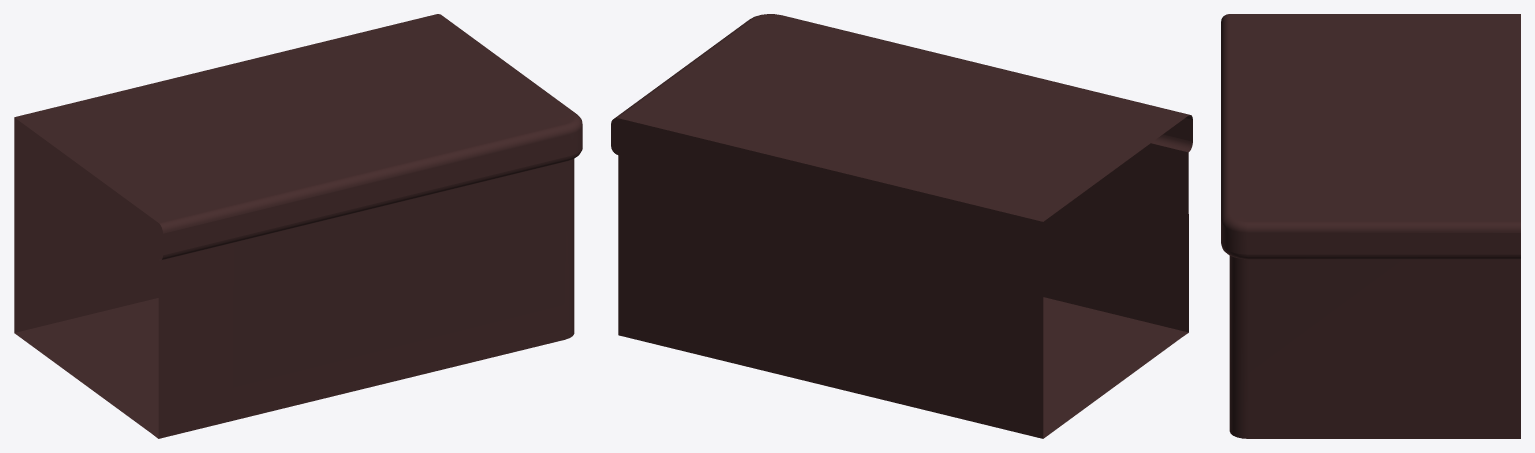
File: KitchenBar_2.fbx
3 views of the same model, side by side, from view 1: azimuth 30°, elevation 25°; view 2: azimuth 150°, elevation 25°; view 3: azimuth 270°, elevation 25° (orthographic).
Parts seen in each view (by area): view 1: KitchenBar_2; view 2: KitchenBar_2; view 3: KitchenBar_2.
Part boxes in pixels (x1=…): KitchenBar_2: x1=14, y1=14, x2=582, y2=438; KitchenBar_2: x1=611, y1=14, x2=1192, y2=438; KitchenBar_2: x1=1221, y1=14, x2=1520, y2=438.
Bounding box in the file's own units: 41.71 × 20 × 25.
